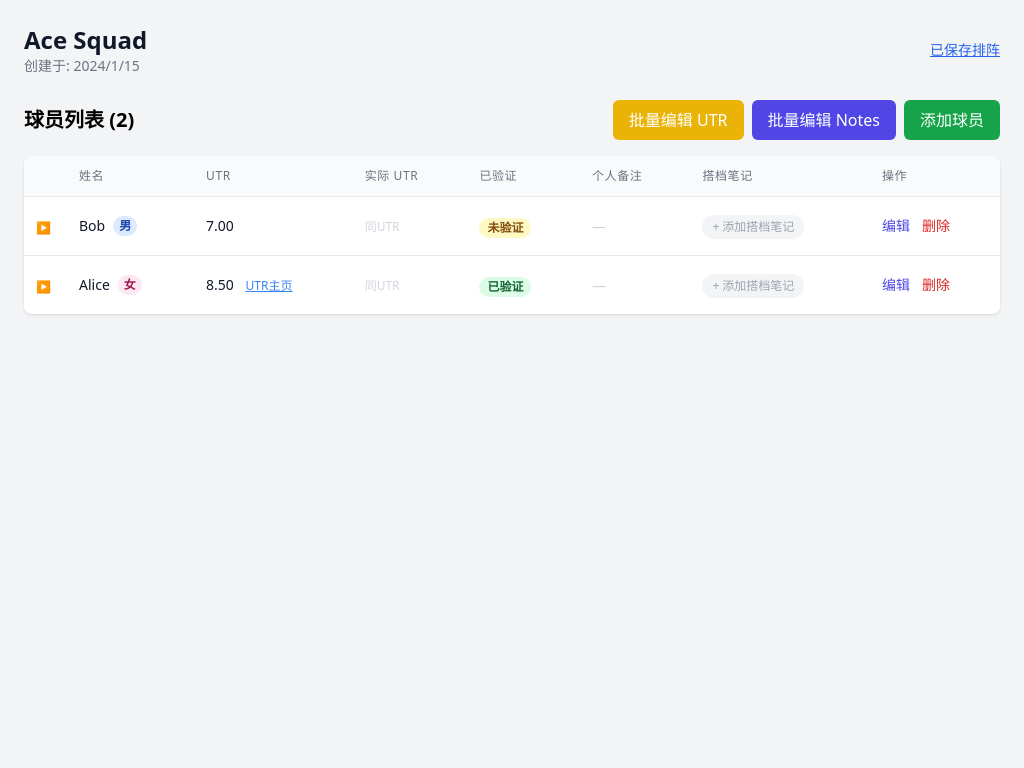
Scenario: TeamDetail › edit player populates the form with player data
The image size is (1024, 768).
After sorting males first: Bob (index 0), Alice (index 1)
Click the button "编辑" in the row of "Alice" at (896, 285), box [882,275,910,295]
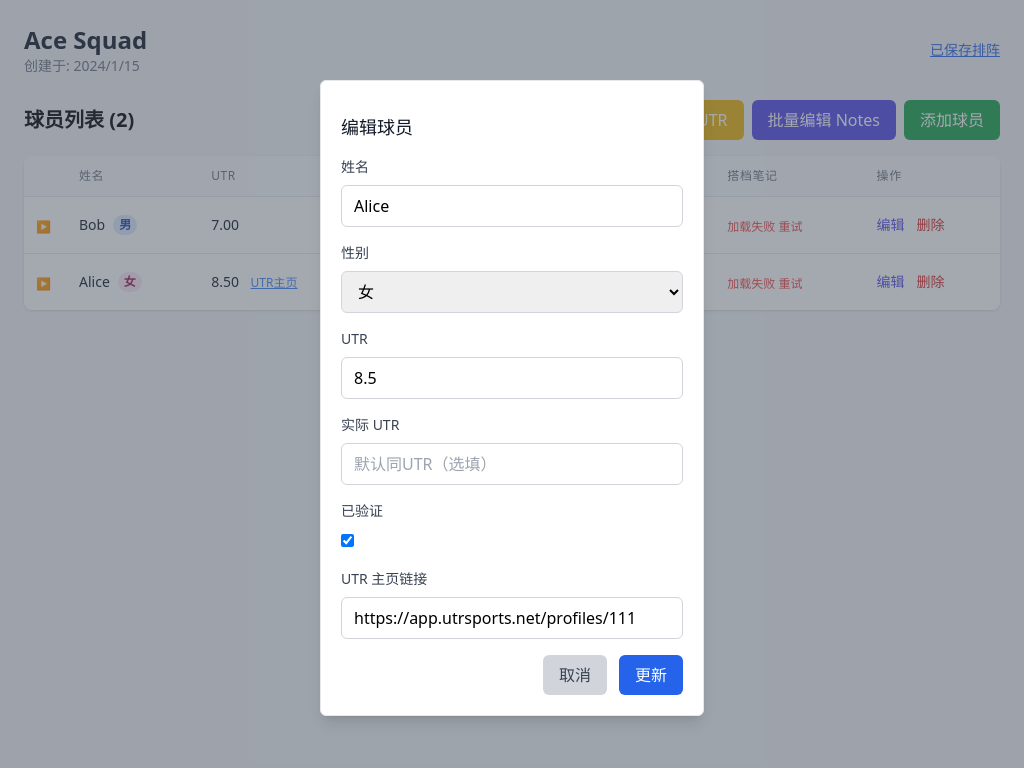
Check: the field labelled "姓名" holds "Alice", box [341,185,683,227]
